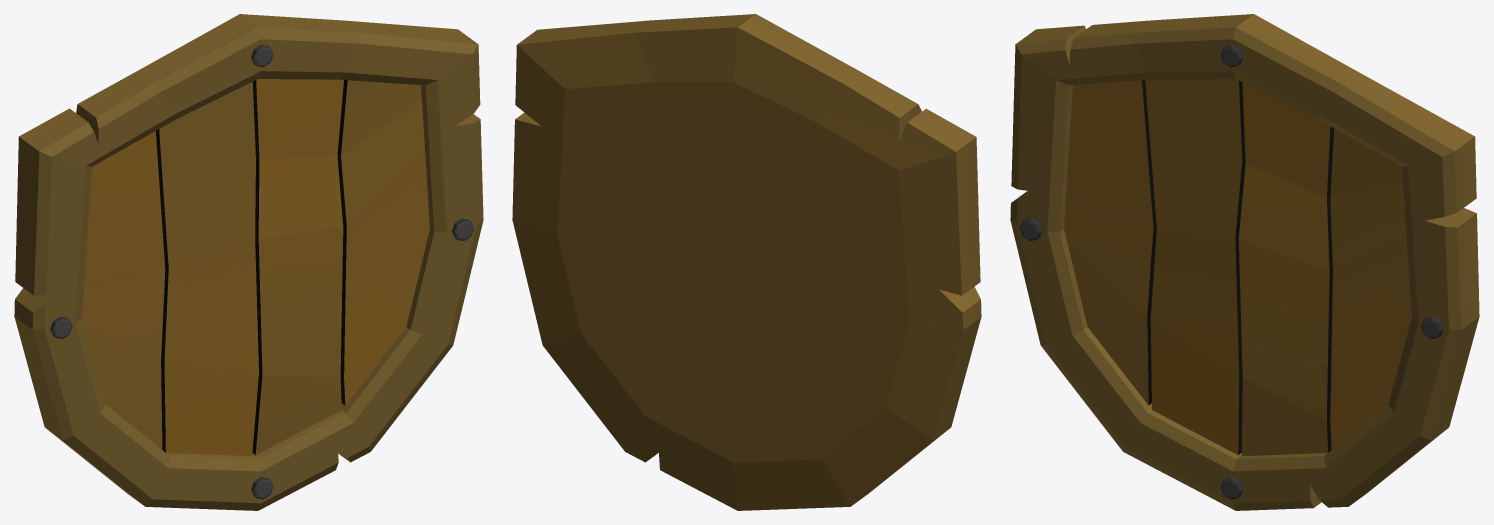
The model's file is shield_4.fbx.
3 renders of one model, left to right at view 1: azimuth 30°, elevation 25°; view 2: azimuth 150°, elevation 25°; view 3: azimuth 330°, elevation 25°, orthographic.
Parts seen in each view (by area): view 1: shield_4; view 2: shield_4; view 3: shield_4.
Boxes of the visible parts, x1=… form: shield_4: x1=14, y1=14, x2=483, y2=510; shield_4: x1=512, y1=14, x2=981, y2=510; shield_4: x1=1010, y1=14, x2=1479, y2=510.
Size of the model in its own units: 0.5055 by 0.5182 by 0.0579.
